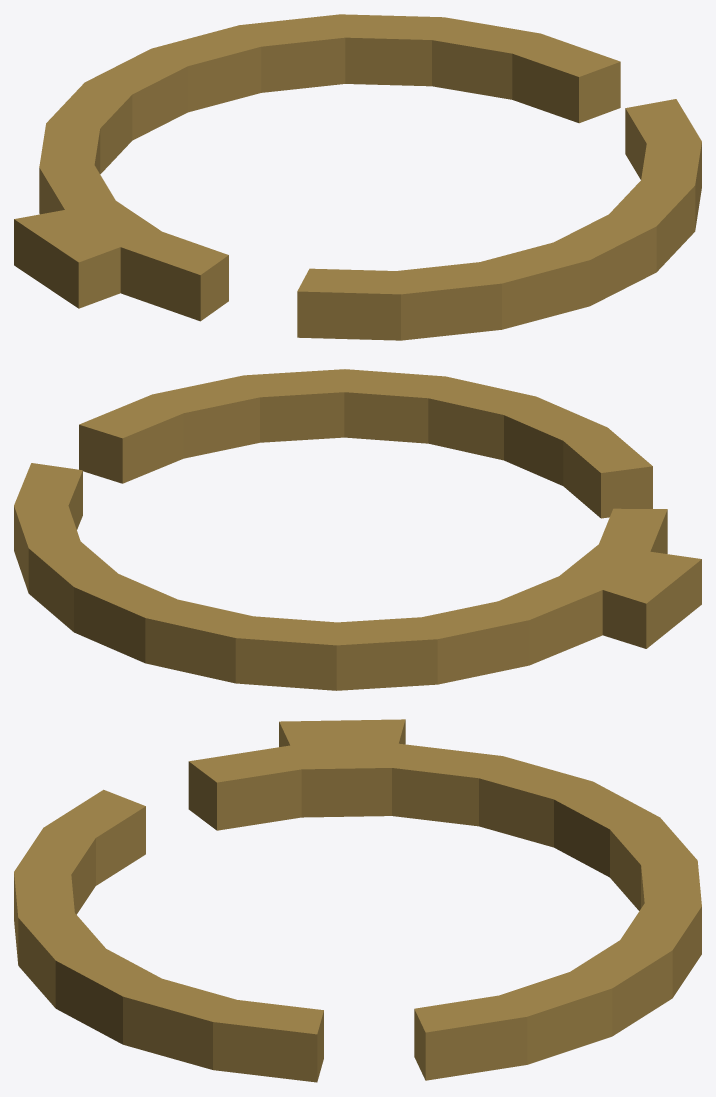
The model's file is mesh_mazewalls03.gltf.
3 views of the same model, one above another, from view 1: azimuth 30°, elevation 25°; view 2: azimuth 150°, elevation 25°; view 3: azimuth 270°, elevation 25° (orthographic). The views are drawn at different scales.
Parts seen in each view (by area): view 1: mesh_mazewalls03; view 2: mesh_mazewalls03; view 3: mesh_mazewalls03.
Boxes of the visible parts, bbox=[...] form: mesh_mazewalls03: bbox=[14, 14, 701, 340]; mesh_mazewalls03: bbox=[14, 369, 701, 690]; mesh_mazewalls03: bbox=[14, 719, 701, 1082].
Bounding box in the file's own units: 135 × 9.65 × 125.
